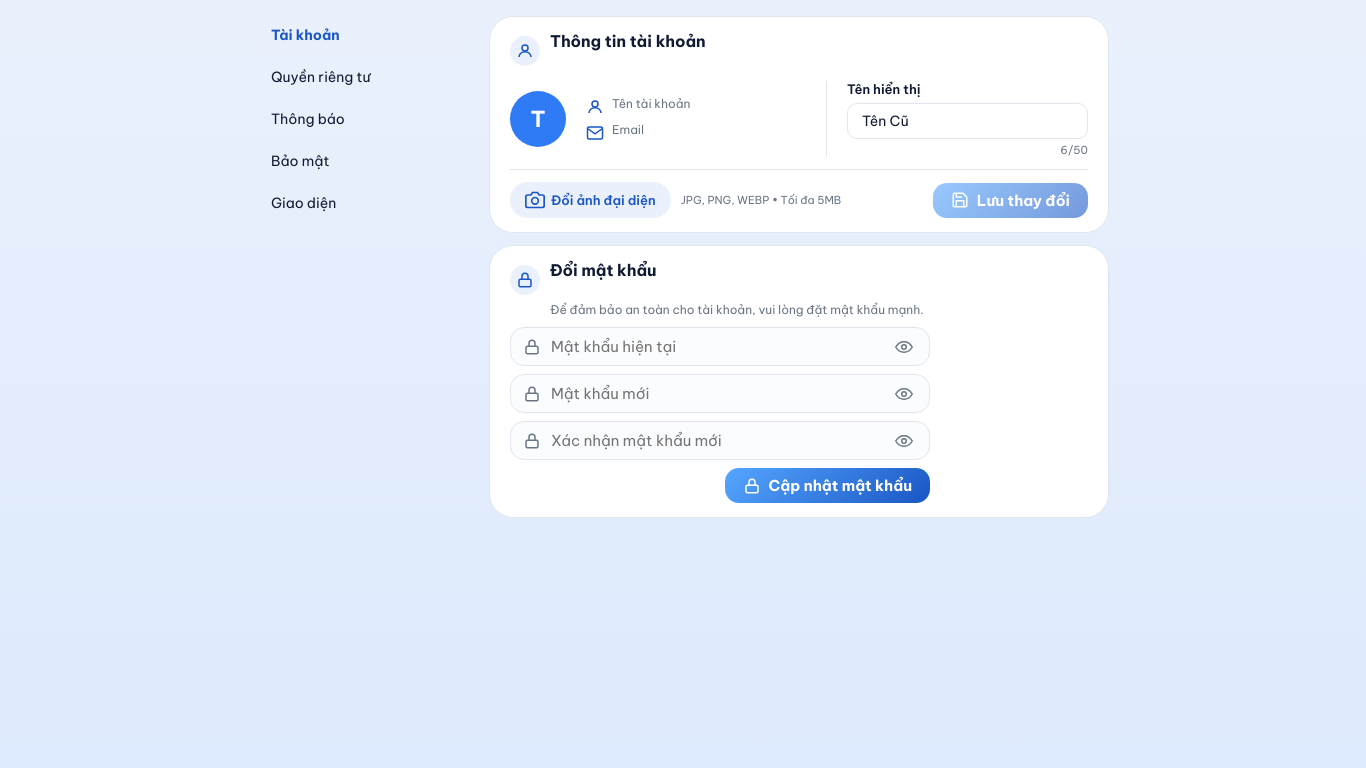
Scenario: TrangCaiDat › doi ten hien thi thanh cong cap nhat lai input va thong bao
The image size is (1366, 768).
Replace the text in the field showing "Tên Cũ" with "Tên Mới" at (968, 121), box [847, 103, 1088, 139]
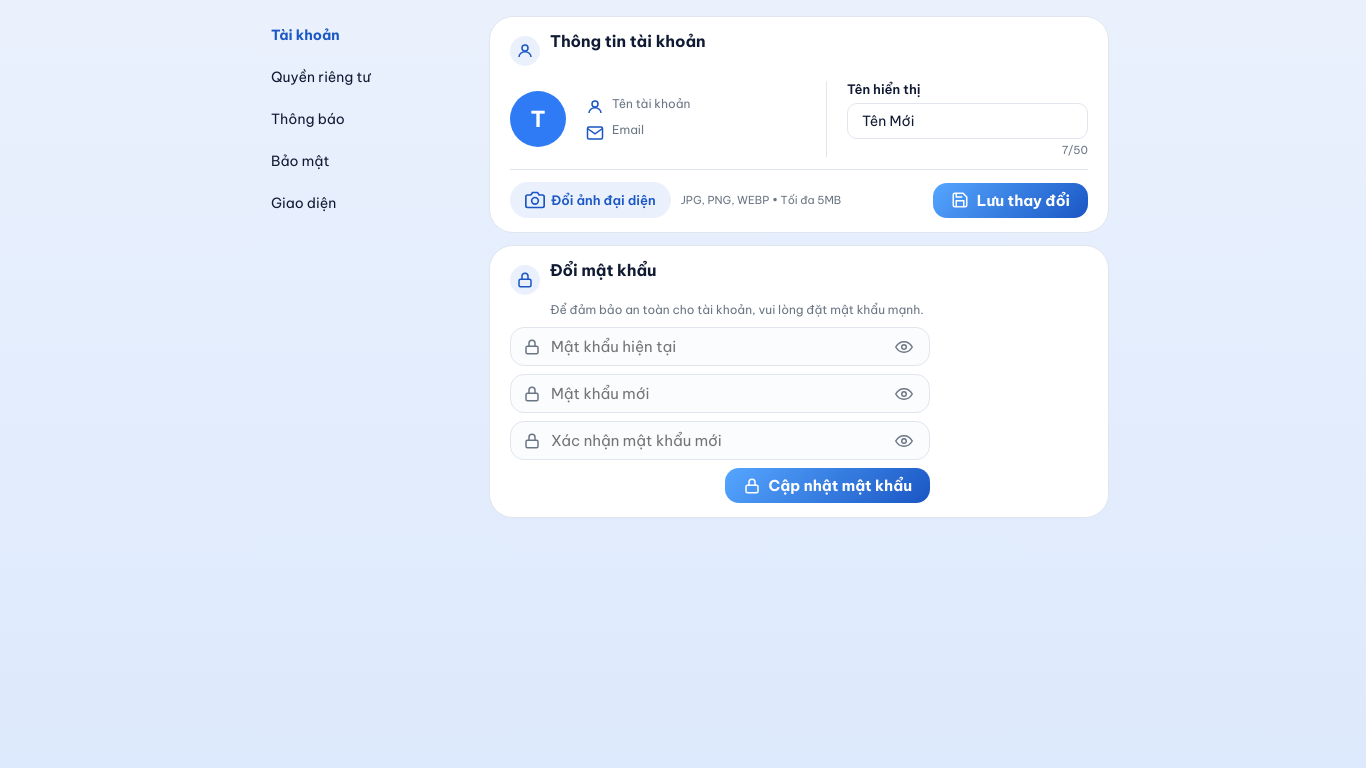
Click the button "Lưu thay đổi" at (1010, 200), box [933, 182, 1088, 218]
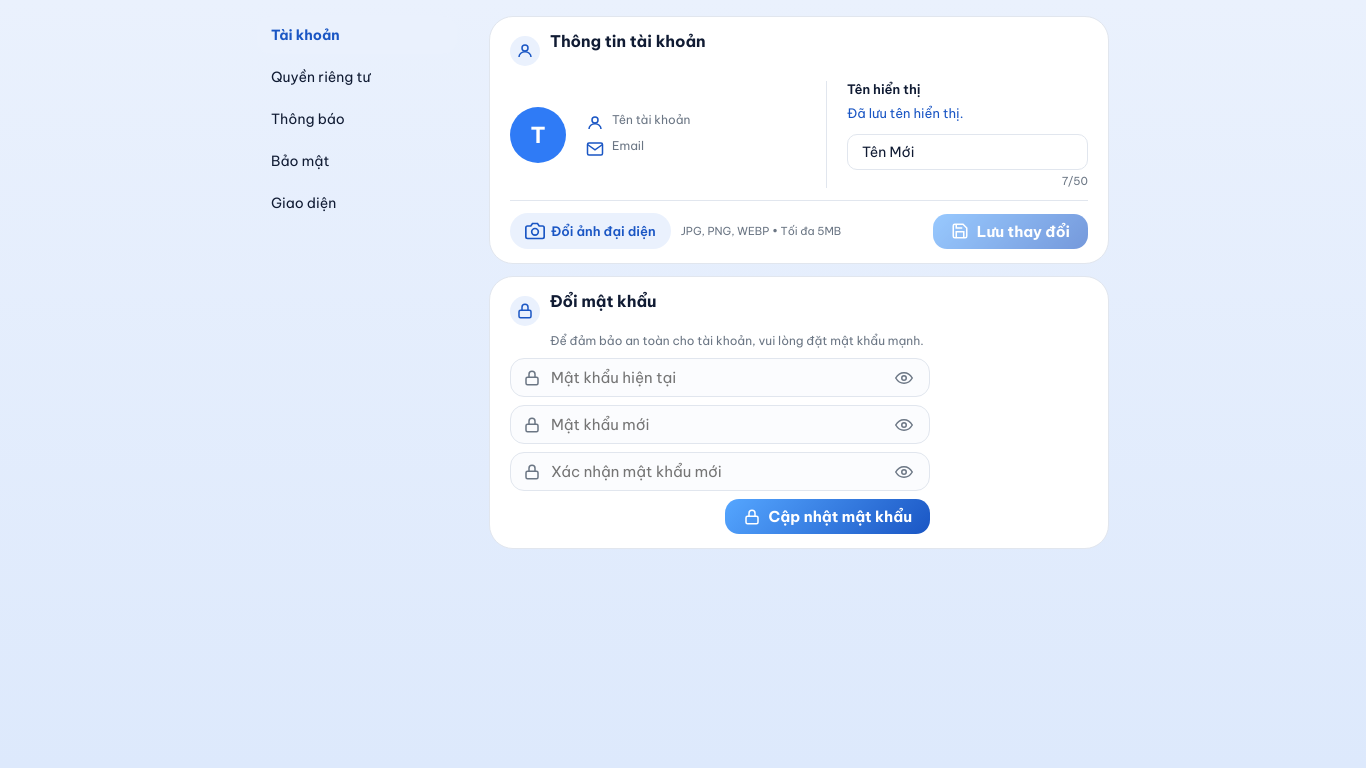
Expected: the text "Đã lưu tên hiển thị." is shown, [847, 105, 963, 121]
